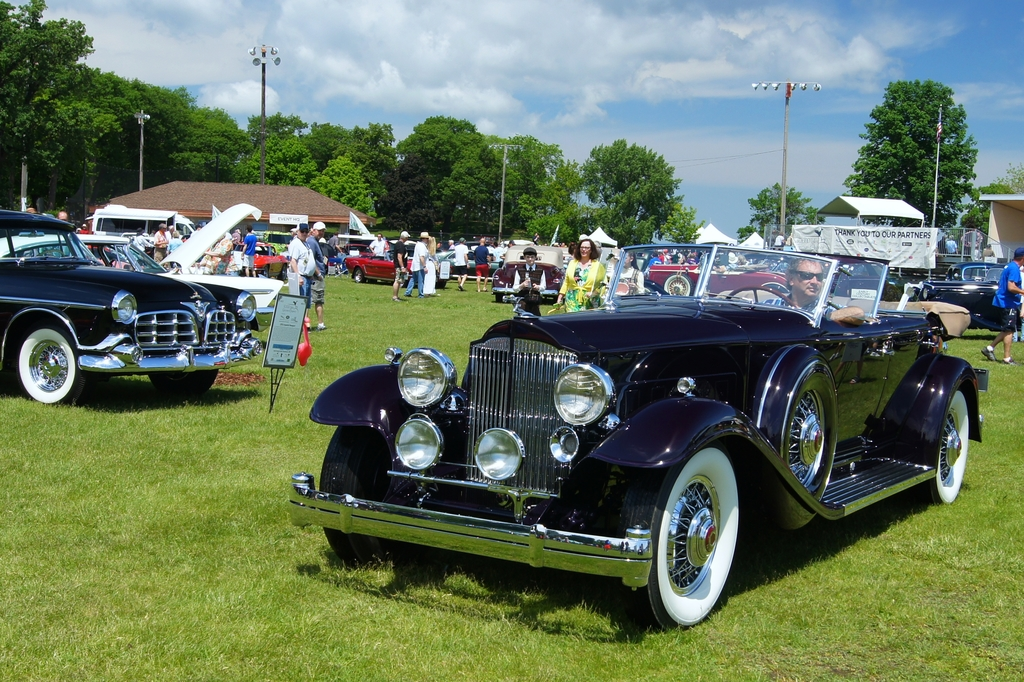Car: (0, 202, 1019, 630)
